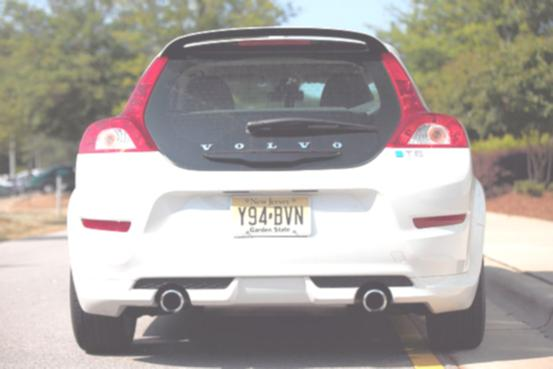volvo: (187, 133, 351, 159)
